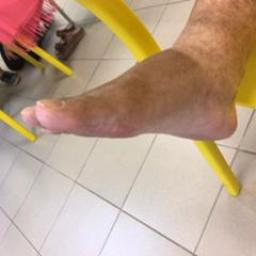Medial View -Right Foot-: (10, 31, 255, 165)
